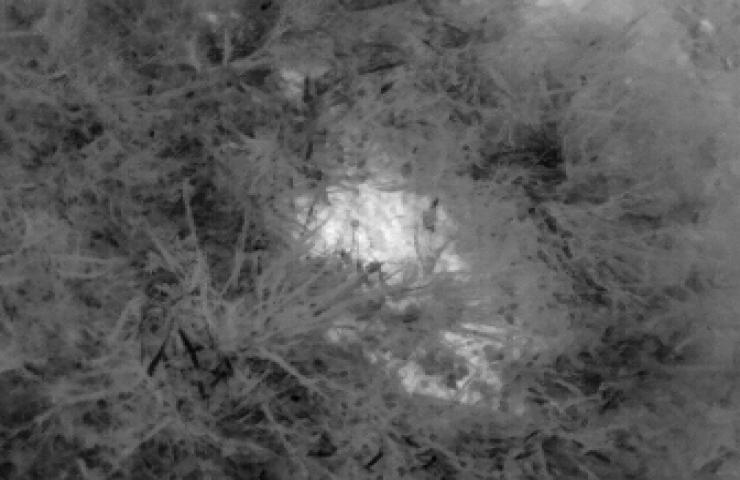landmines: (293, 177, 456, 281)
